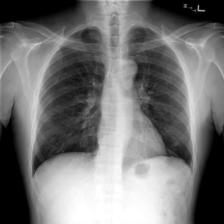normal: (30, 23, 197, 182)
